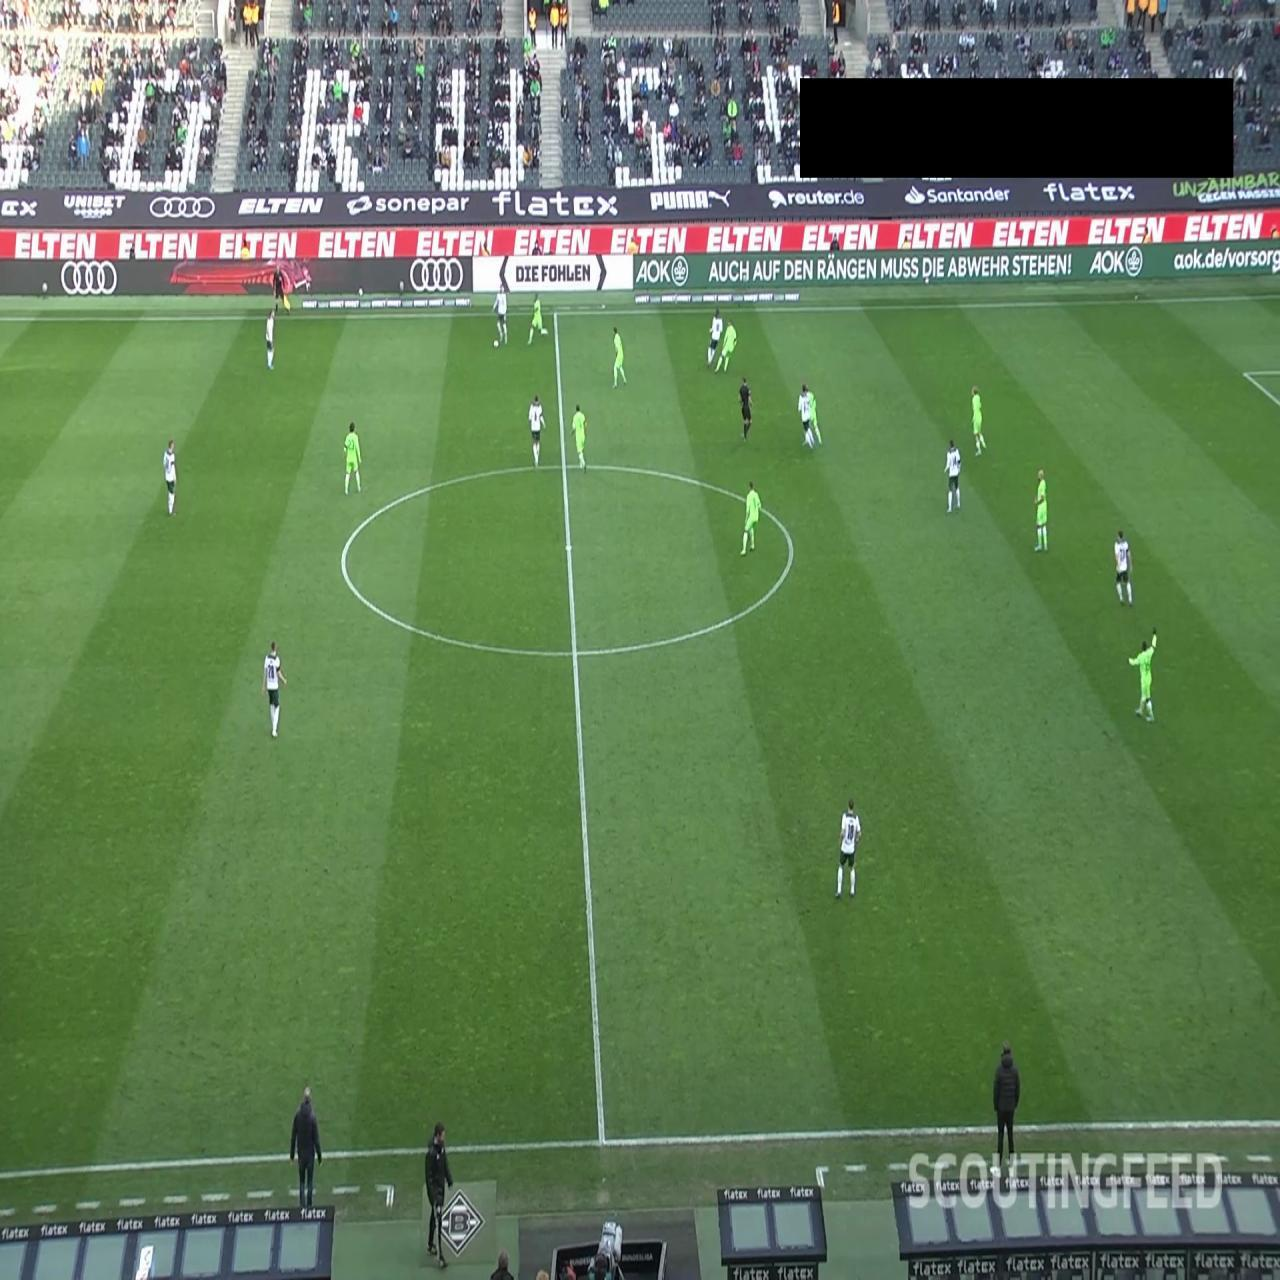Ball: (493, 339, 499, 350)
Player: (834, 796, 862, 898), (1128, 629, 1158, 722), (262, 638, 288, 738), (740, 478, 761, 554), (1114, 528, 1134, 606), (343, 420, 363, 496), (527, 394, 547, 468), (944, 438, 962, 514), (714, 318, 738, 373), (570, 403, 588, 474), (798, 382, 816, 452), (162, 438, 178, 516), (1034, 467, 1048, 552), (526, 292, 548, 345), (804, 385, 823, 445), (971, 384, 987, 455), (492, 284, 509, 348), (706, 310, 724, 368), (612, 326, 628, 388), (265, 306, 276, 370)
Referee: (272, 266, 292, 316), (739, 376, 754, 442)
